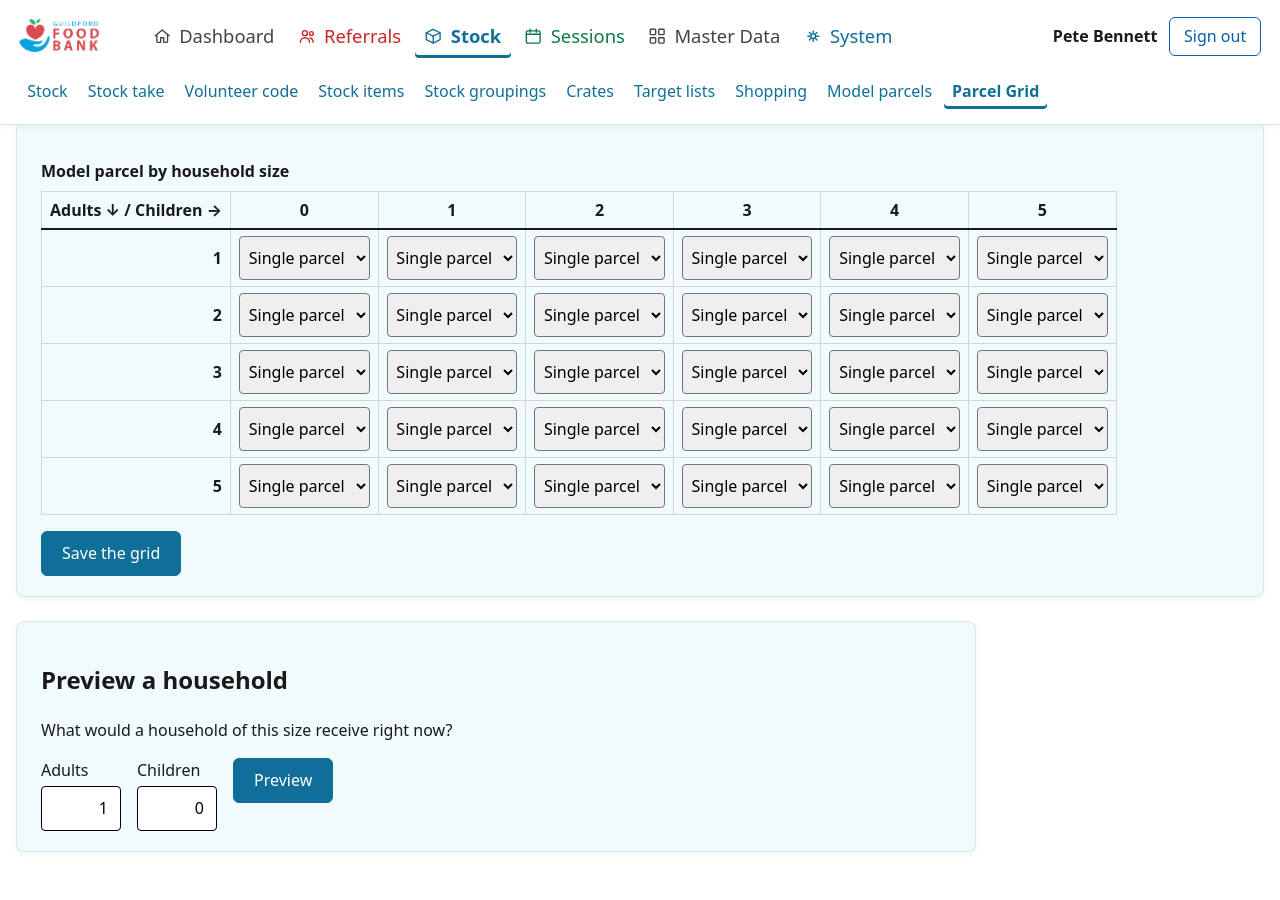
Test: the household grid › previews a household that fits the grid without any clamping note
(page scrolled)
Expected: the heading "Preview a household" is shown, 41,663 -> 288,696
Step 1. Replace the text in the field labelled "Adults" with "2" → (81, 808), box 41,786 -> 121,831
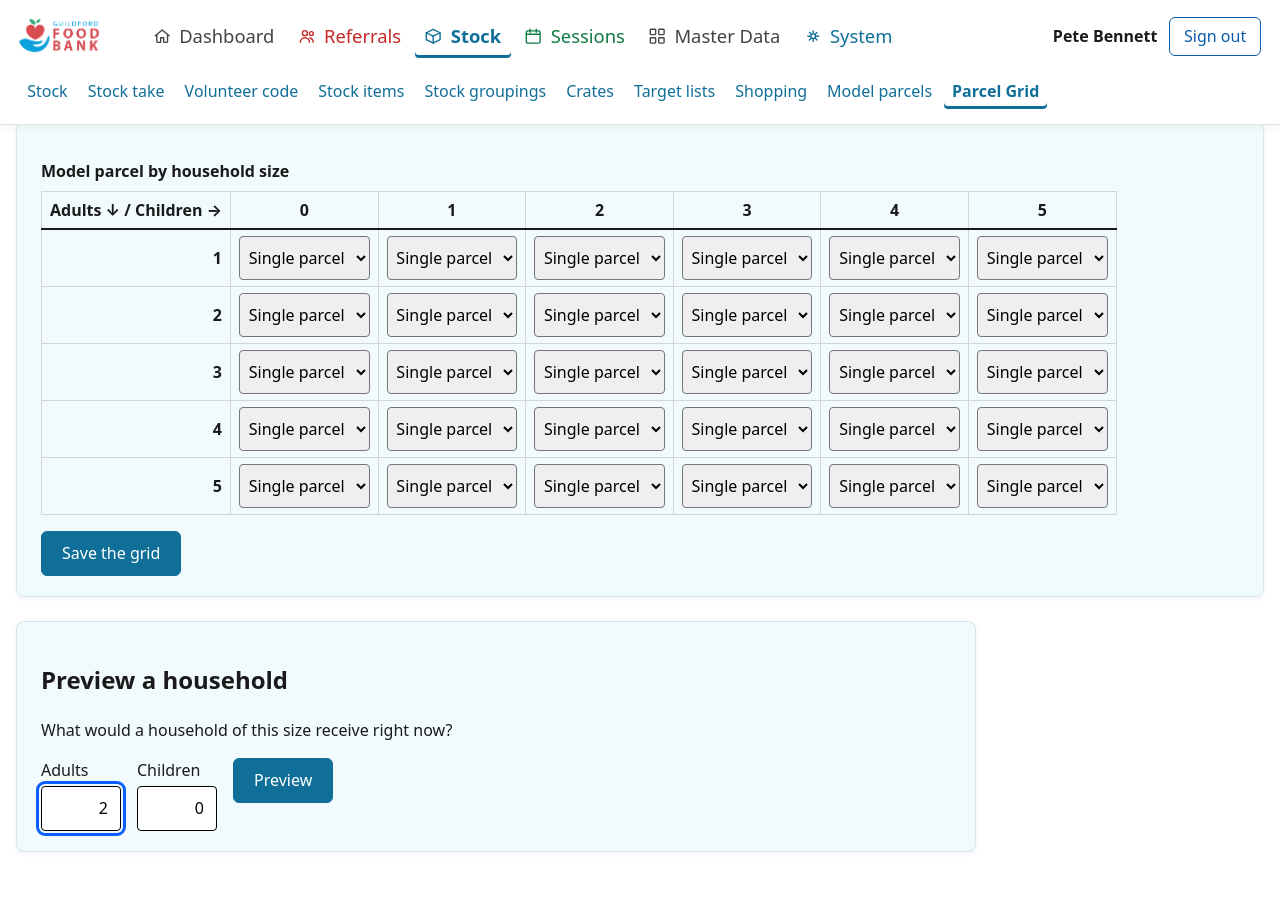
Step 2. Replace the text in the field labelled "Children" with "1" → (177, 808), box 137,786 -> 217,831
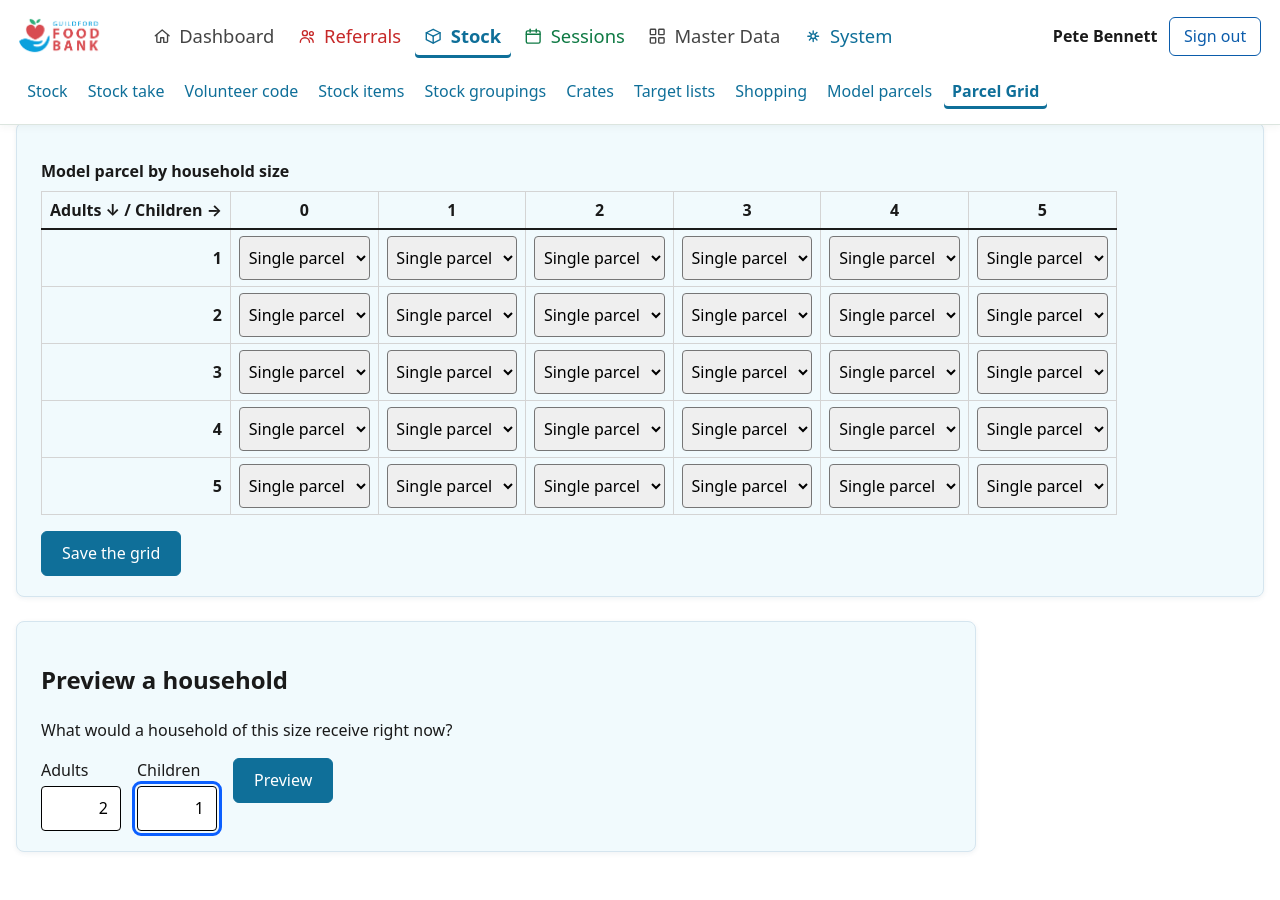
Step 3. Click the button "Preview" → click(283, 780), box 233,758 -> 333,803
(page scrolled)
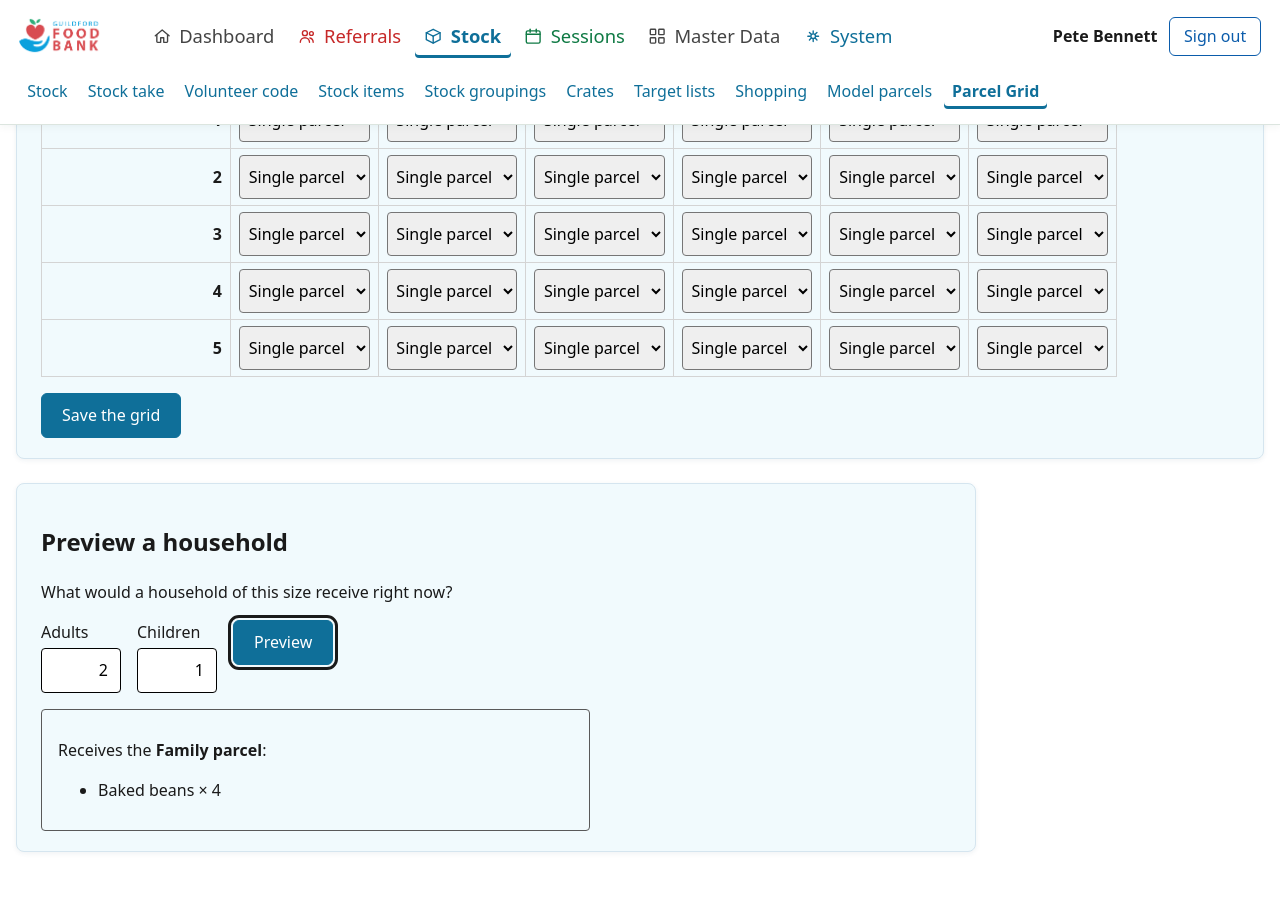
Result: the text "Family parcel" is shown at 156,739 -> 262,761
Result: the list item "Baked beans × 4" is shown at 98,779 -> 221,801
